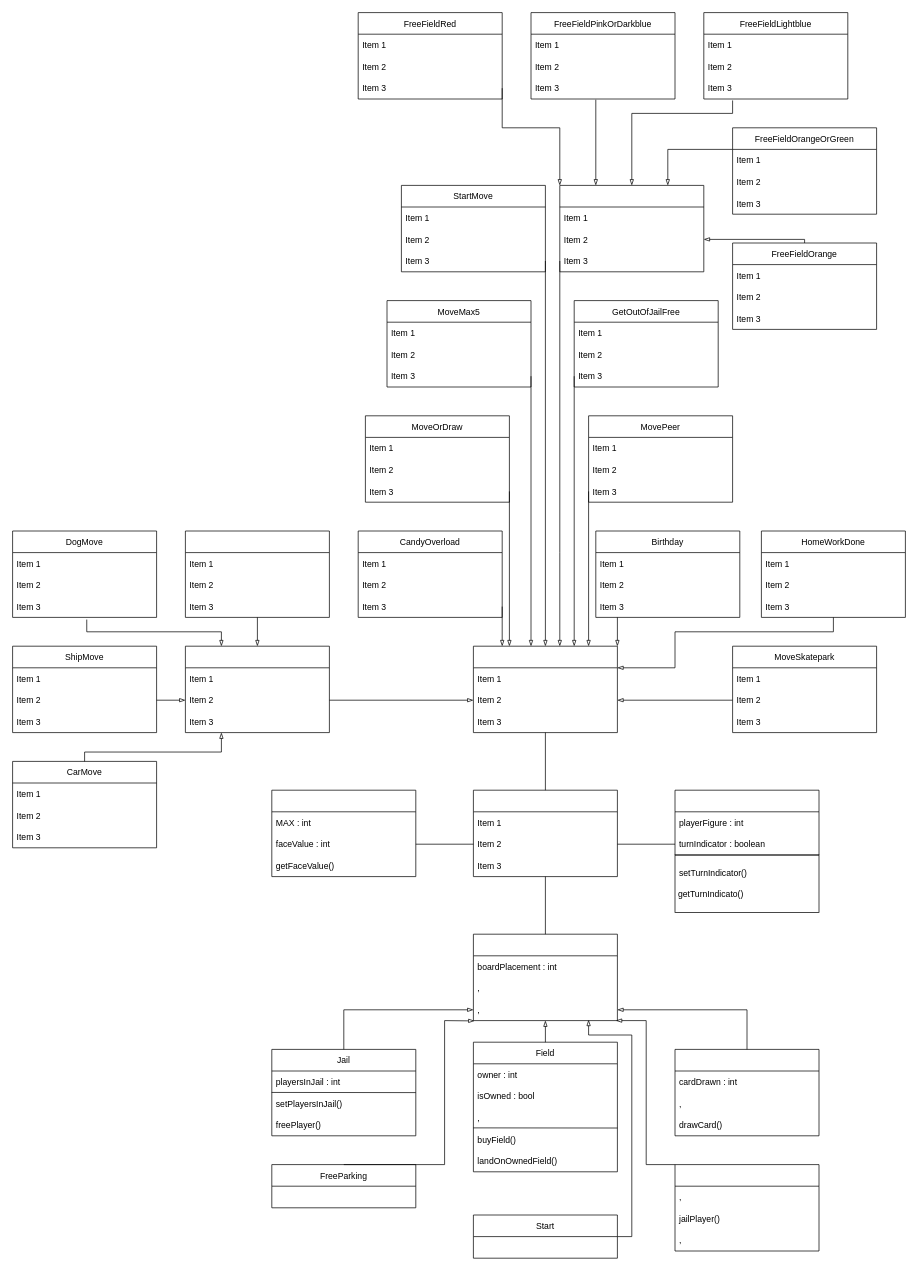
Some shapes in this 918 by 1271 pixel diagram are drawn without their labels. The shapes that lost their labels are listed below. From the top down, each one's box as (x1, y1, x2, y2) in pixels, then its label:
(559, 185, 704, 272): FreeField
(185, 530, 329, 617): CatMove
(185, 645, 329, 733): Move
(473, 645, 617, 733): Cards
(271, 789, 416, 877): model.Die
(473, 789, 617, 877): Board
(674, 789, 819, 855): model.Player
(473, 933, 617, 1021): Fields
(674, 1049, 819, 1136): Chancen
(674, 1164, 819, 1251): GoToJail
